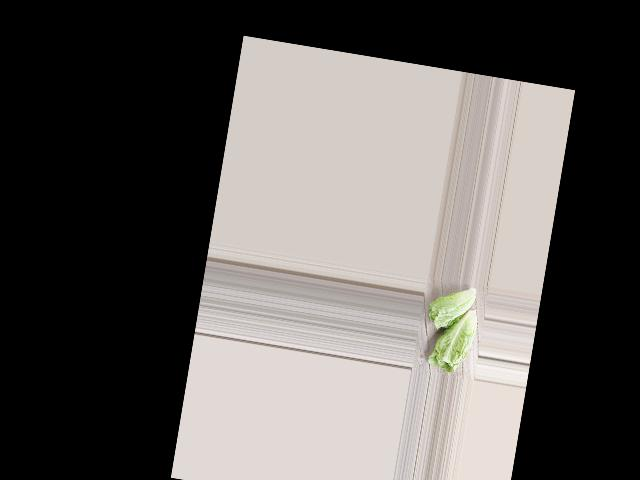lettuce: (421, 277, 479, 335)
